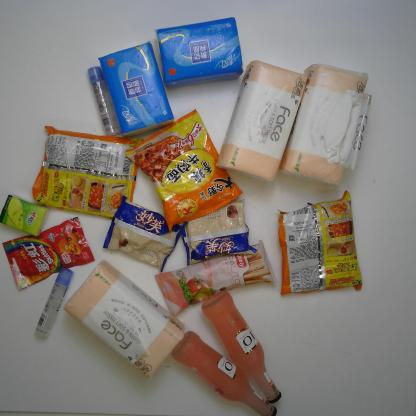Alcohol: (199, 290, 283, 404), (171, 329, 278, 416)
Candy: (1, 216, 95, 292)
Dessert: (153, 238, 278, 317), (101, 194, 188, 274), (179, 196, 258, 266)
Instant Noodles: (125, 107, 243, 233), (32, 124, 139, 220), (276, 190, 363, 296)
Stationery: (33, 266, 75, 339), (86, 65, 122, 137)
Tissue: (62, 258, 187, 382), (278, 62, 374, 190), (215, 58, 309, 184), (97, 41, 175, 138), (154, 15, 244, 89), (0, 193, 51, 238)
